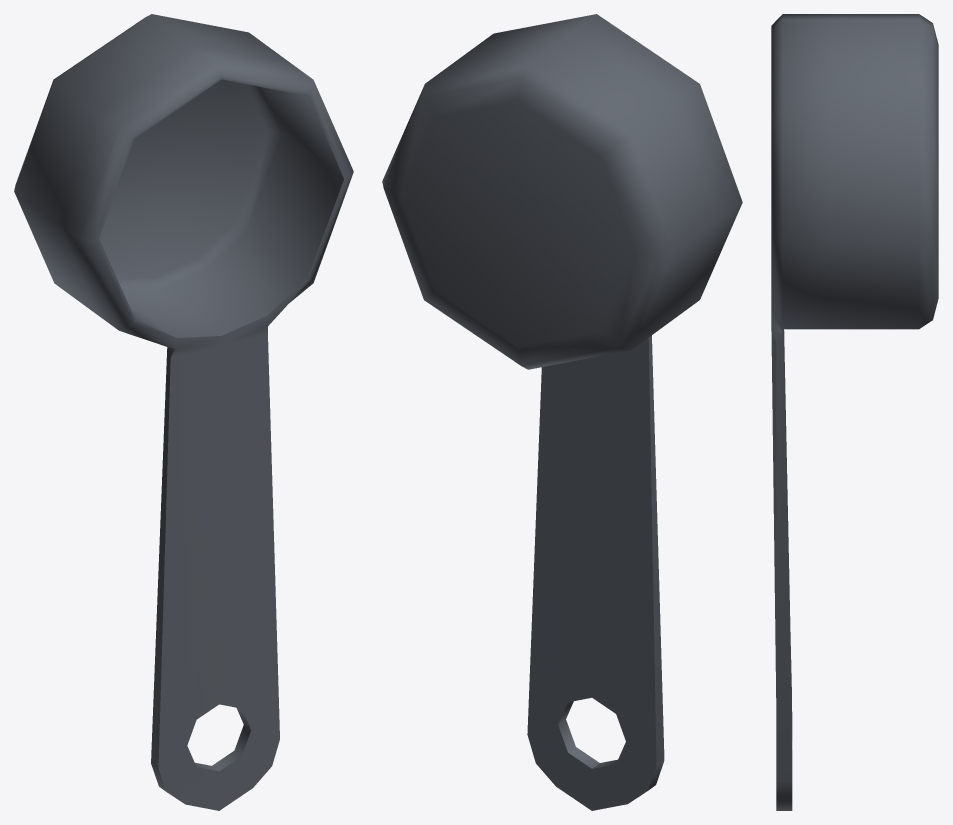
The model's file is mspoon_measuring_spoons_large_001.glb.
3 views of the same model, side by side, from view 1: azimuth 30°, elevation 25°; view 2: azimuth 150°, elevation 25°; view 3: azimuth 270°, elevation 25° (orthographic). The views are drawn at different scales.
Visible parts, largest first — view 1: mspoon measuring spoons large.001; view 2: mspoon measuring spoons large.001; view 3: mspoon measuring spoons large.001.
Part boxes in pixels (x1,y1,x2,y2): mspoon measuring spoons large.001: (14,14,353,810); mspoon measuring spoons large.001: (382,14,742,810); mspoon measuring spoons large.001: (771,14,938,810).
Size of the model in its own units: 1.3 by 3.37 by 0.6466.
1 material, 1 textured.
